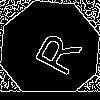R: (25, 25, 83, 79)
